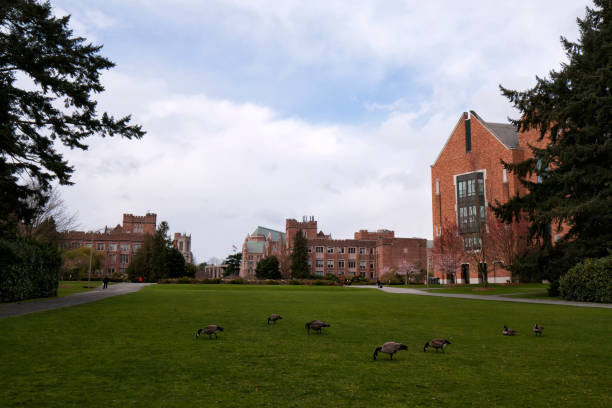goose: (357, 340, 414, 368), (188, 319, 226, 345), (418, 334, 461, 356), (297, 318, 333, 337), (259, 310, 285, 327), (528, 321, 552, 338), (497, 321, 519, 335)
